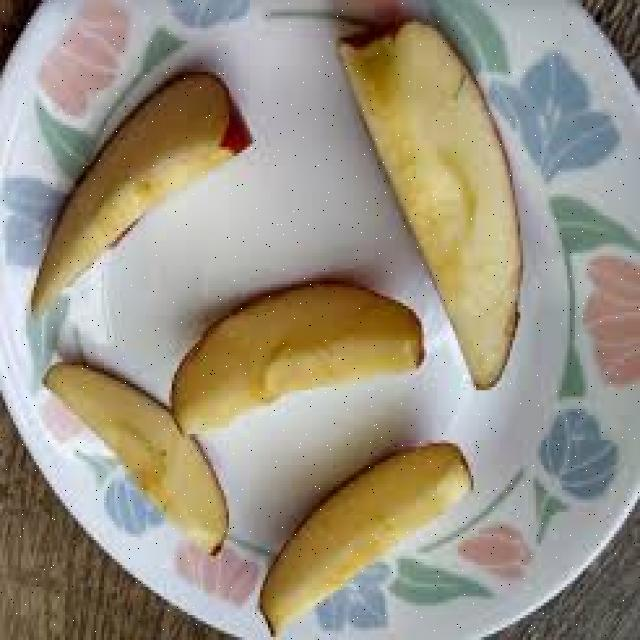Apple: (342, 34, 536, 395), (28, 71, 257, 320), (259, 436, 477, 636), (168, 275, 428, 440), (46, 368, 226, 552)
